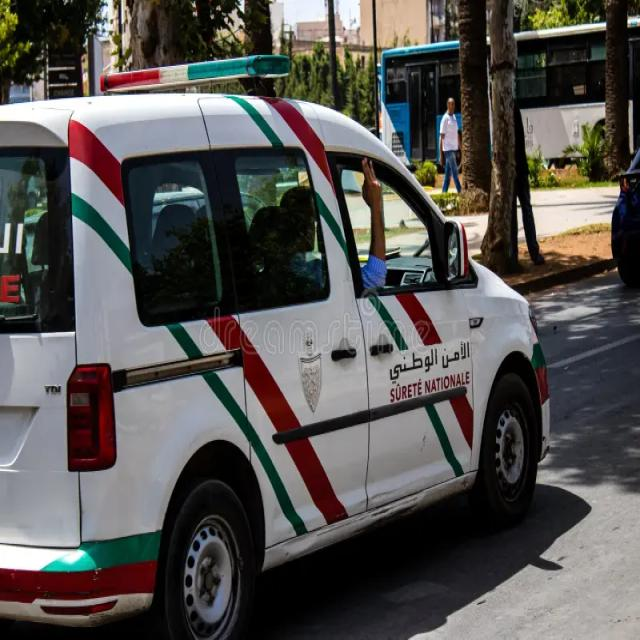police: (2, 57, 550, 640)
